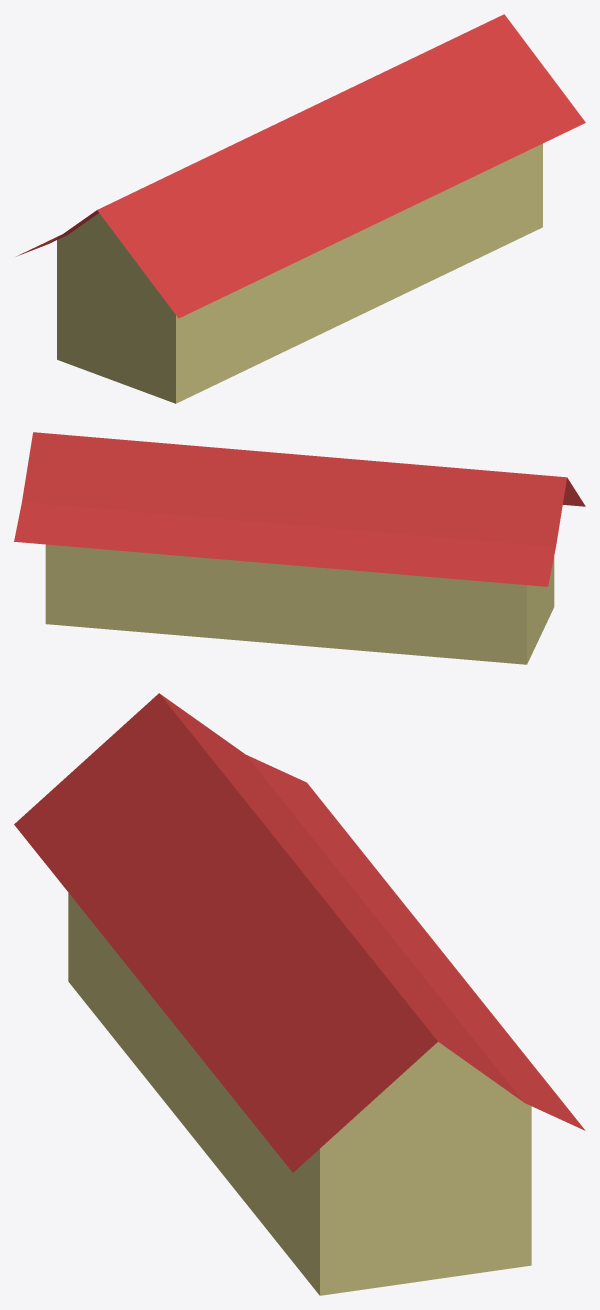
3 views of the same model, one above another, from view 1: azimuth 30°, elevation 25°; view 2: azimuth 150°, elevation 25°; view 3: azimuth 270°, elevation 25° (orthographic). The views are drawn at different scales.
Size of the model in its own units: 43.06 by 26.66 by 13.19.
